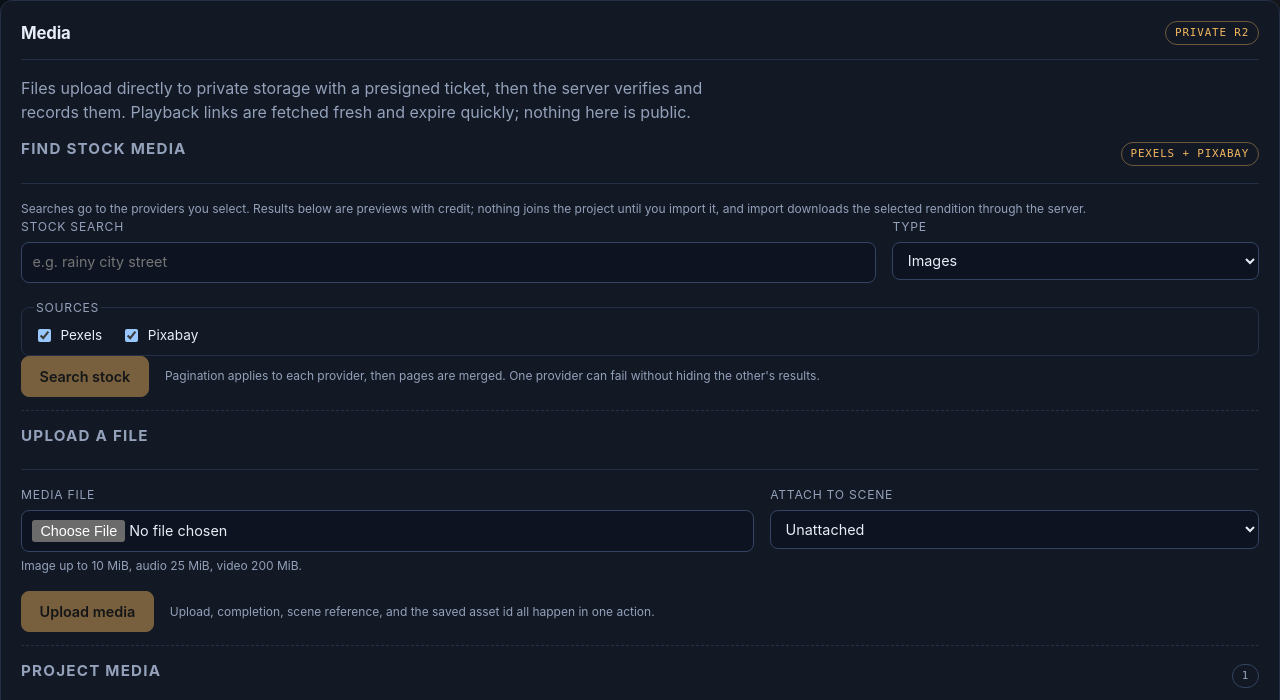
Test: stock search in the media panel › reports an asset that is already in the project without adding a duplicate
Type "rain" into the search field labelled "Stock search" at (449, 262), box x1=21 y1=242 x2=876 y2=283
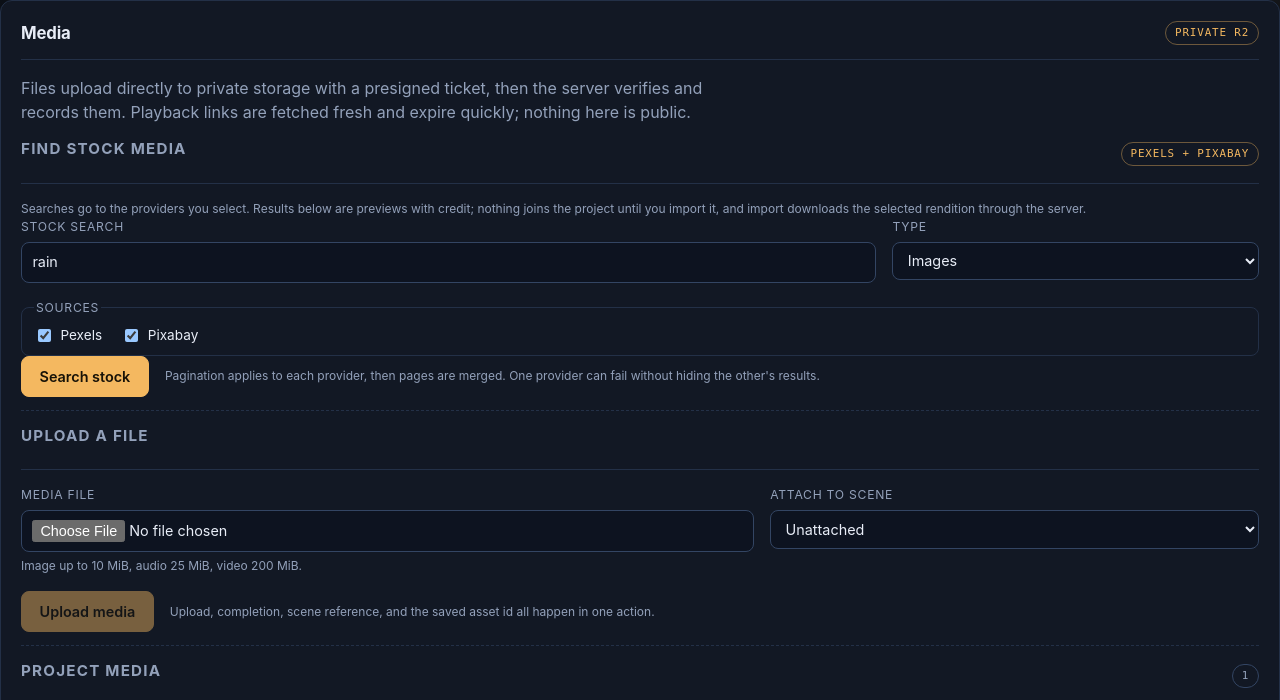
Click the button "Search stock" at (85, 376), box x1=21 y1=356 x2=149 y2=397
(page scrolled)
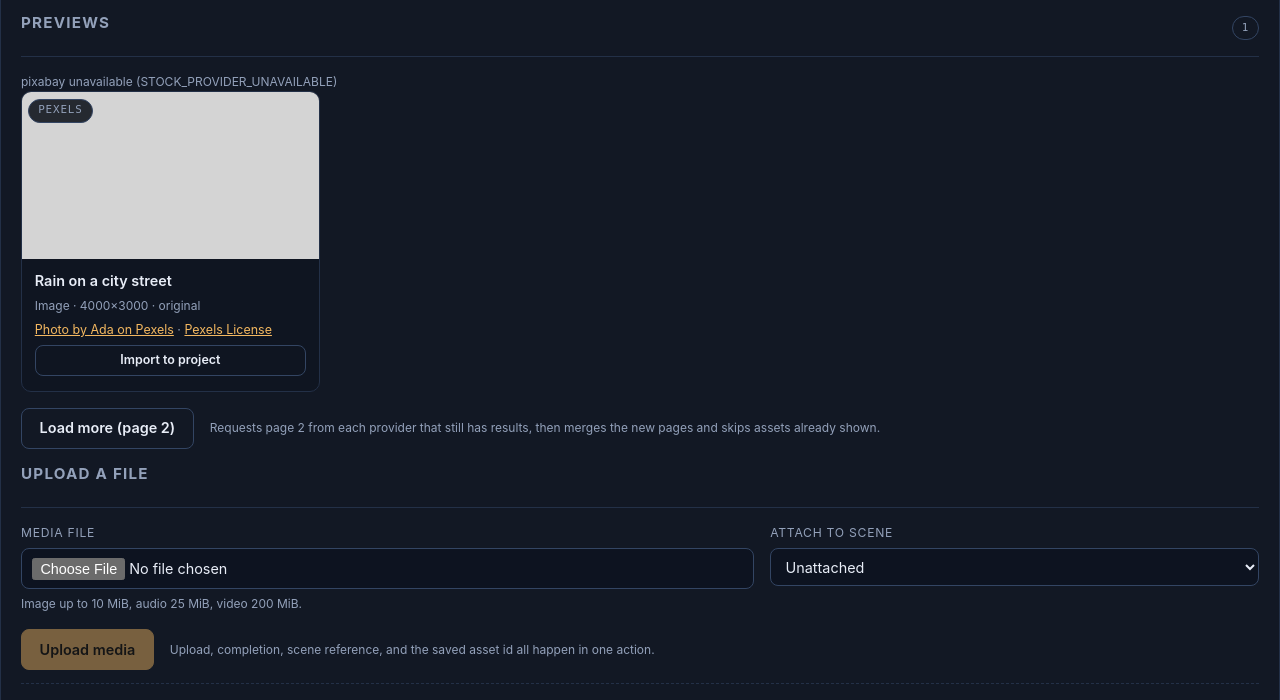
Click the button "Import to project" at (170, 361), box x1=35 y1=345 x2=306 y2=376
(page scrolled)
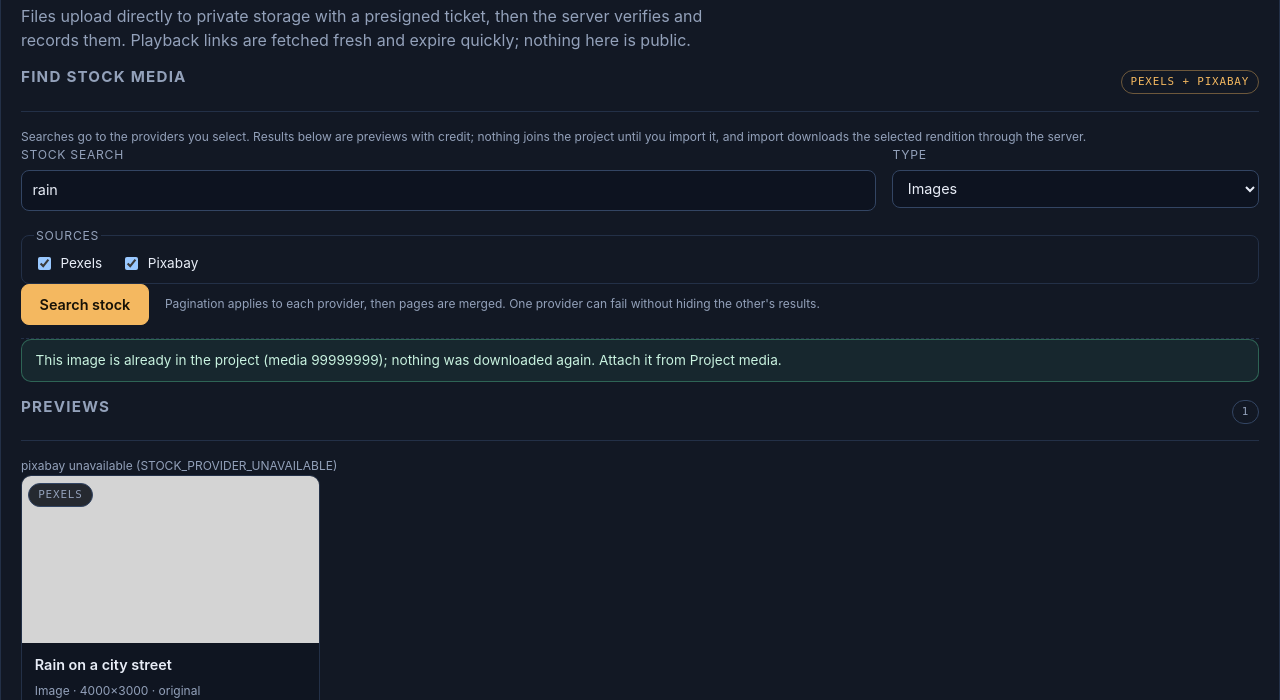
Expected: the text "already in the project" is shown, x1=36 y1=352 x2=782 y2=368
